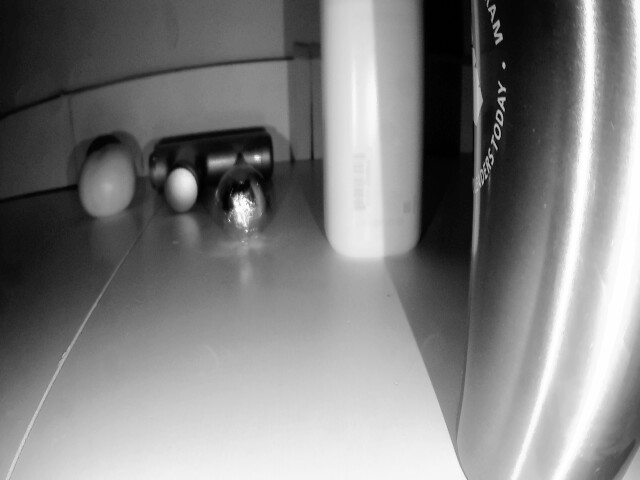black: (214, 165, 270, 242)
